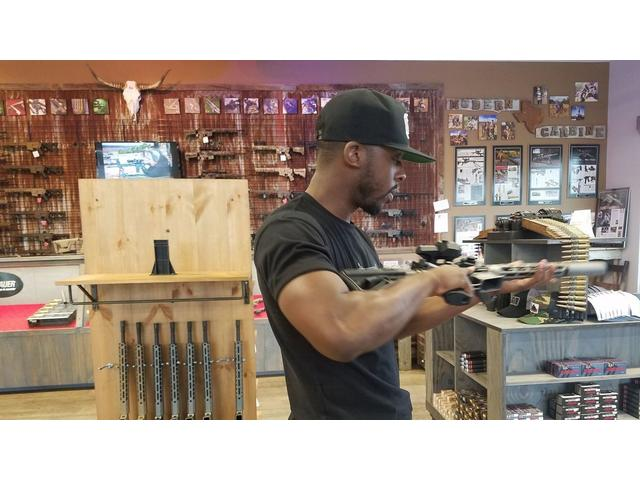rifle: (340, 248, 614, 311), (4, 160, 64, 181), (1, 185, 62, 204), (250, 143, 304, 164), (2, 140, 77, 155), (1, 210, 67, 227), (179, 146, 245, 163), (2, 231, 70, 247), (185, 125, 246, 141), (253, 166, 307, 183)
